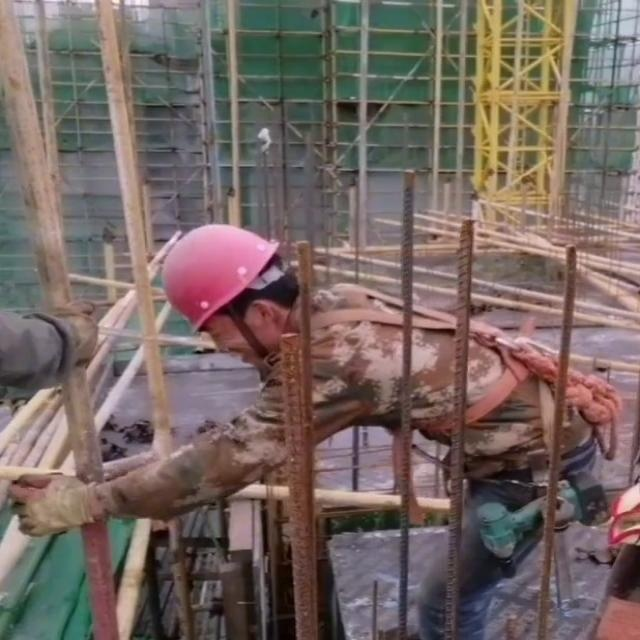Arnes_seguridad: (299, 272, 630, 445)
